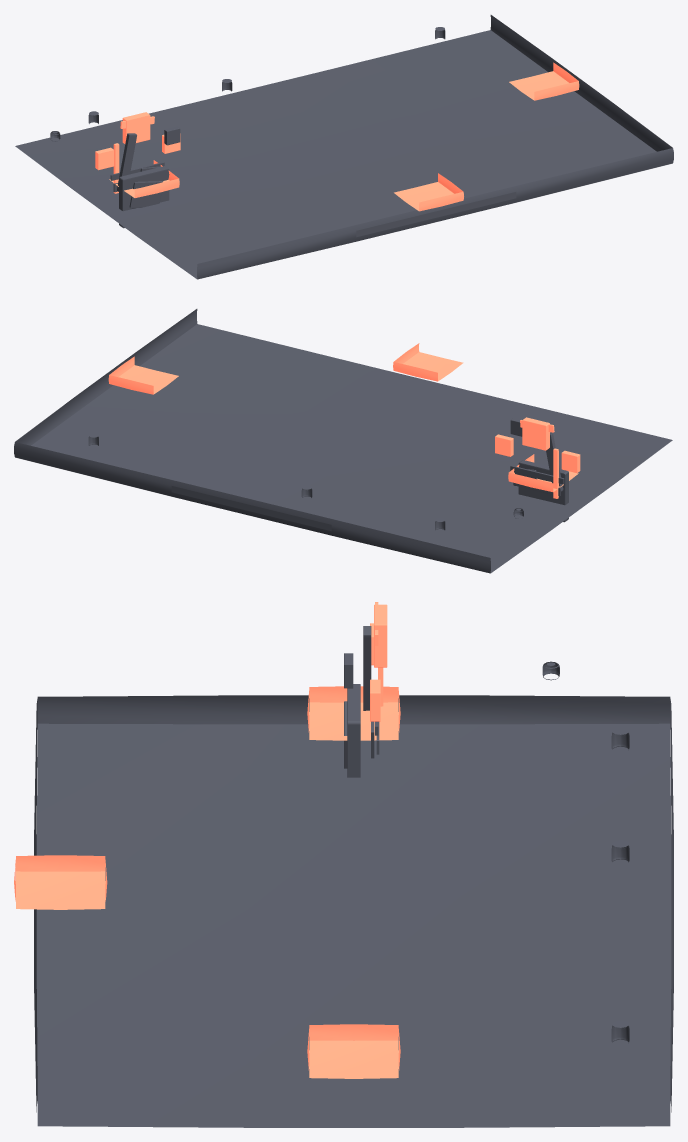
File: greeble_nav_lights.glb
The picture shows the model from 3 angles, top to bottom: view 1: azimuth 30°, elevation 25°; view 2: azimuth 150°, elevation 25°; view 3: azimuth 270°, elevation 25°; orthographic projection. The views are drawn at different scales.
Visible parts, largest first — view 1: Nav_Base, greeble_nav_lights_Material_Accent_Merged, DET_mount_flange, DET_strobe_housing, DET_dock_scuff, DET_wire_channel, greeble_nav_lights_Material_Mechanical_Merged; view 2: Nav_Base, greeble_nav_lights_Material_Accent_Merged, DET_mount_flange, DET_strobe_housing, greeble_nav_lights_Material_Mechanical_Merged; view 3: Nav_Base, greeble_nav_lights_Material_Accent_Merged, greeble_nav_lights_Material_Mechanical_Merged, DET_mount_flange, DET_strobe_housing.
Boxes of the visible parts, x1,y1,x2,y2 form: Nav_Base: (15,15,673,279); greeble_nav_lights_Material_Accent_Merged: (109,62,579,211); DET_mount_flange: (119,166,169,228); DET_strobe_housing: (122,112,150,143); DET_dock_scuff: (129,181,162,208); DET_wire_channel: (117,133,136,191); greeble_nav_lights_Material_Mechanical_Merged: (50,27,445,141); Nav_Base: (14,309,672,573); greeble_nav_lights_Material_Accent_Merged: (108,343,578,491); DET_mount_flange: (518,460,568,522); DET_strobe_housing: (522,417,549,450); greeble_nav_lights_Material_Mechanical_Merged: (88,433,523,530); Nav_Base: (34,695,673,1127); greeble_nav_lights_Material_Accent_Merged: (14,686,400,1078); greeble_nav_lights_Material_Mechanical_Merged: (542,661,629,1042); DET_mount_flange: (347,684,360,777); DET_strobe_housing: (374,604,387,667).
Bounding box in the file's own units: 3.61 × 0.715 × 2.48.
